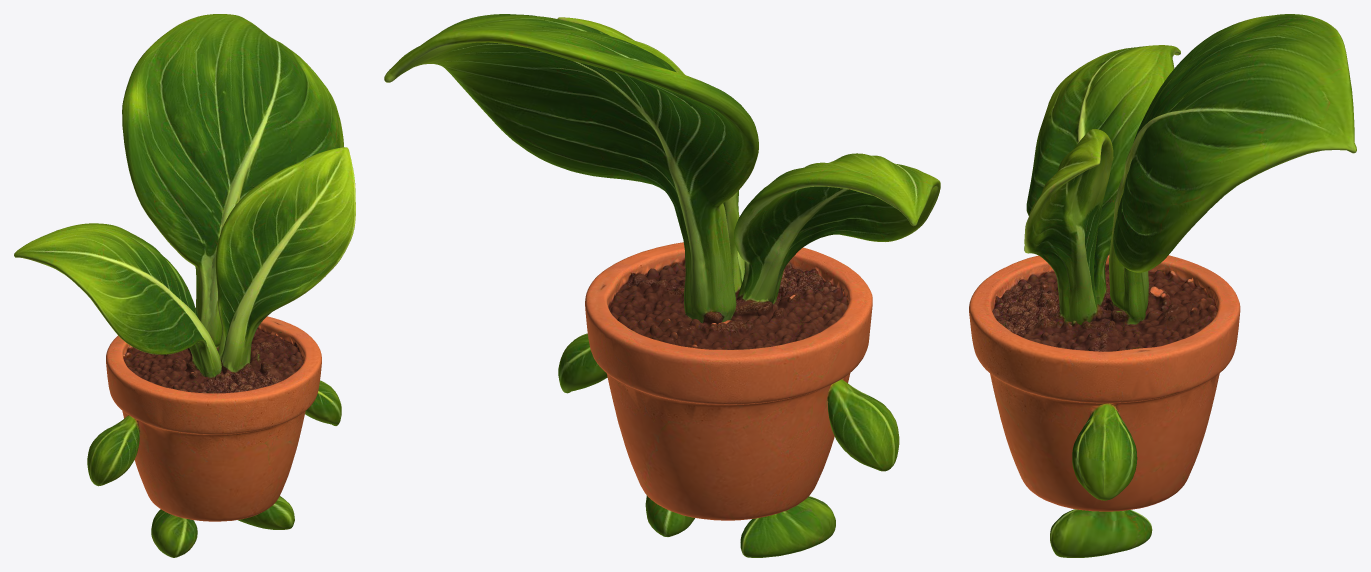
The model's file is plantpal.glb.
3 renders of one model, left to right at view 1: azimuth 30°, elevation 25°; view 2: azimuth 150°, elevation 25°; view 3: azimuth 270°, elevation 25°, orthographic. The views are drawn at different scales.
Size of the model in its own units: 1.58 by 1.9 by 1.26.
Materials: 1 (1 with a texture image).
